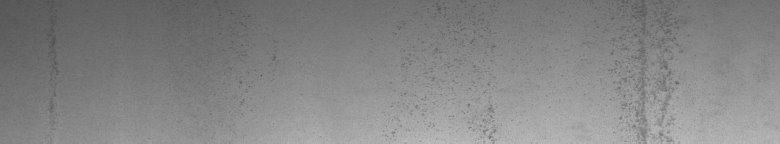ib: (392, 6, 502, 136)
